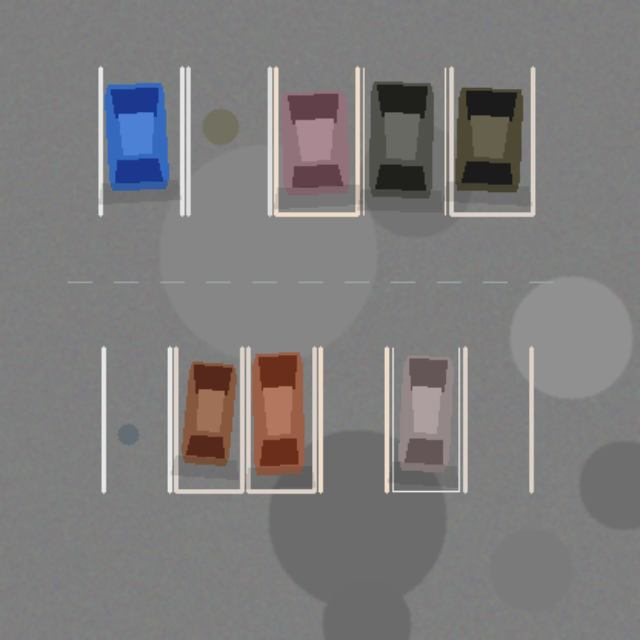space-empty: (188, 68, 269, 214), (103, 348, 169, 491), (320, 348, 386, 491), (465, 348, 531, 491)
space-occupied: (100, 68, 182, 214), (275, 68, 357, 214), (363, 68, 445, 214), (451, 68, 532, 214), (175, 348, 242, 491), (248, 348, 314, 491), (392, 348, 458, 491)
